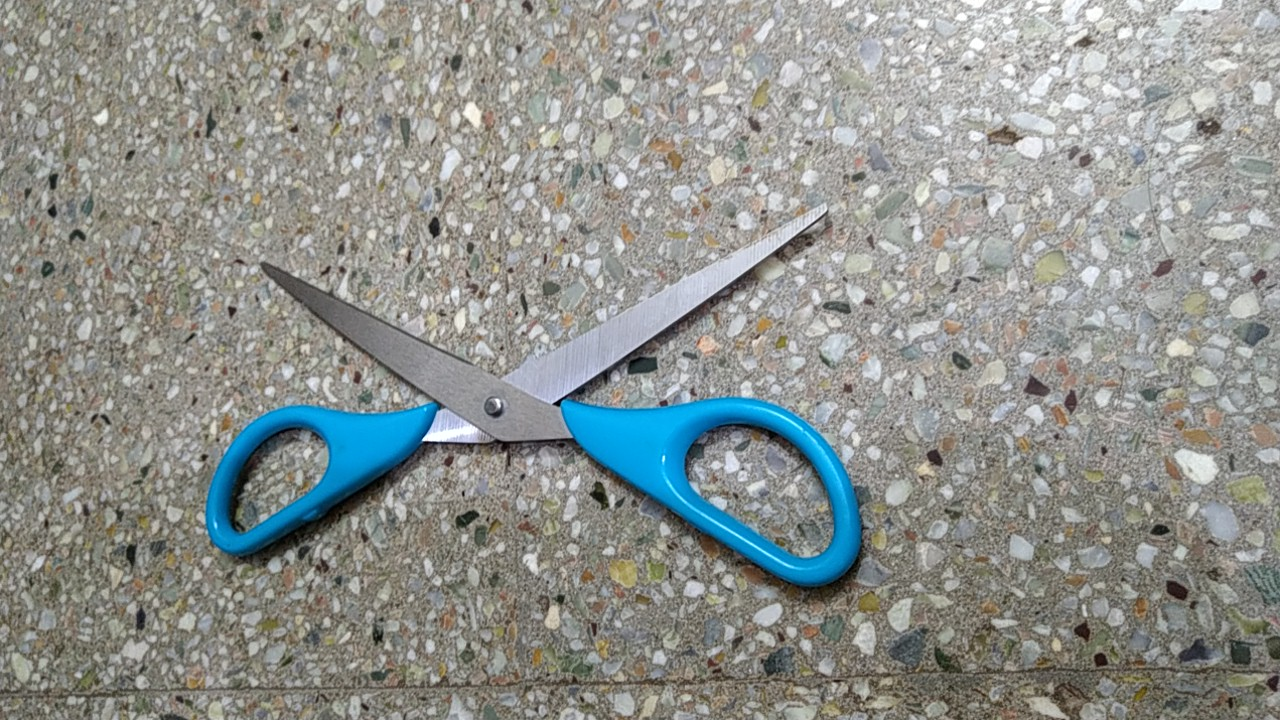scissor: (194, 194, 877, 610)
